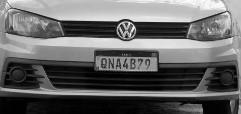placa_mercosul: (94, 51, 157, 71)
